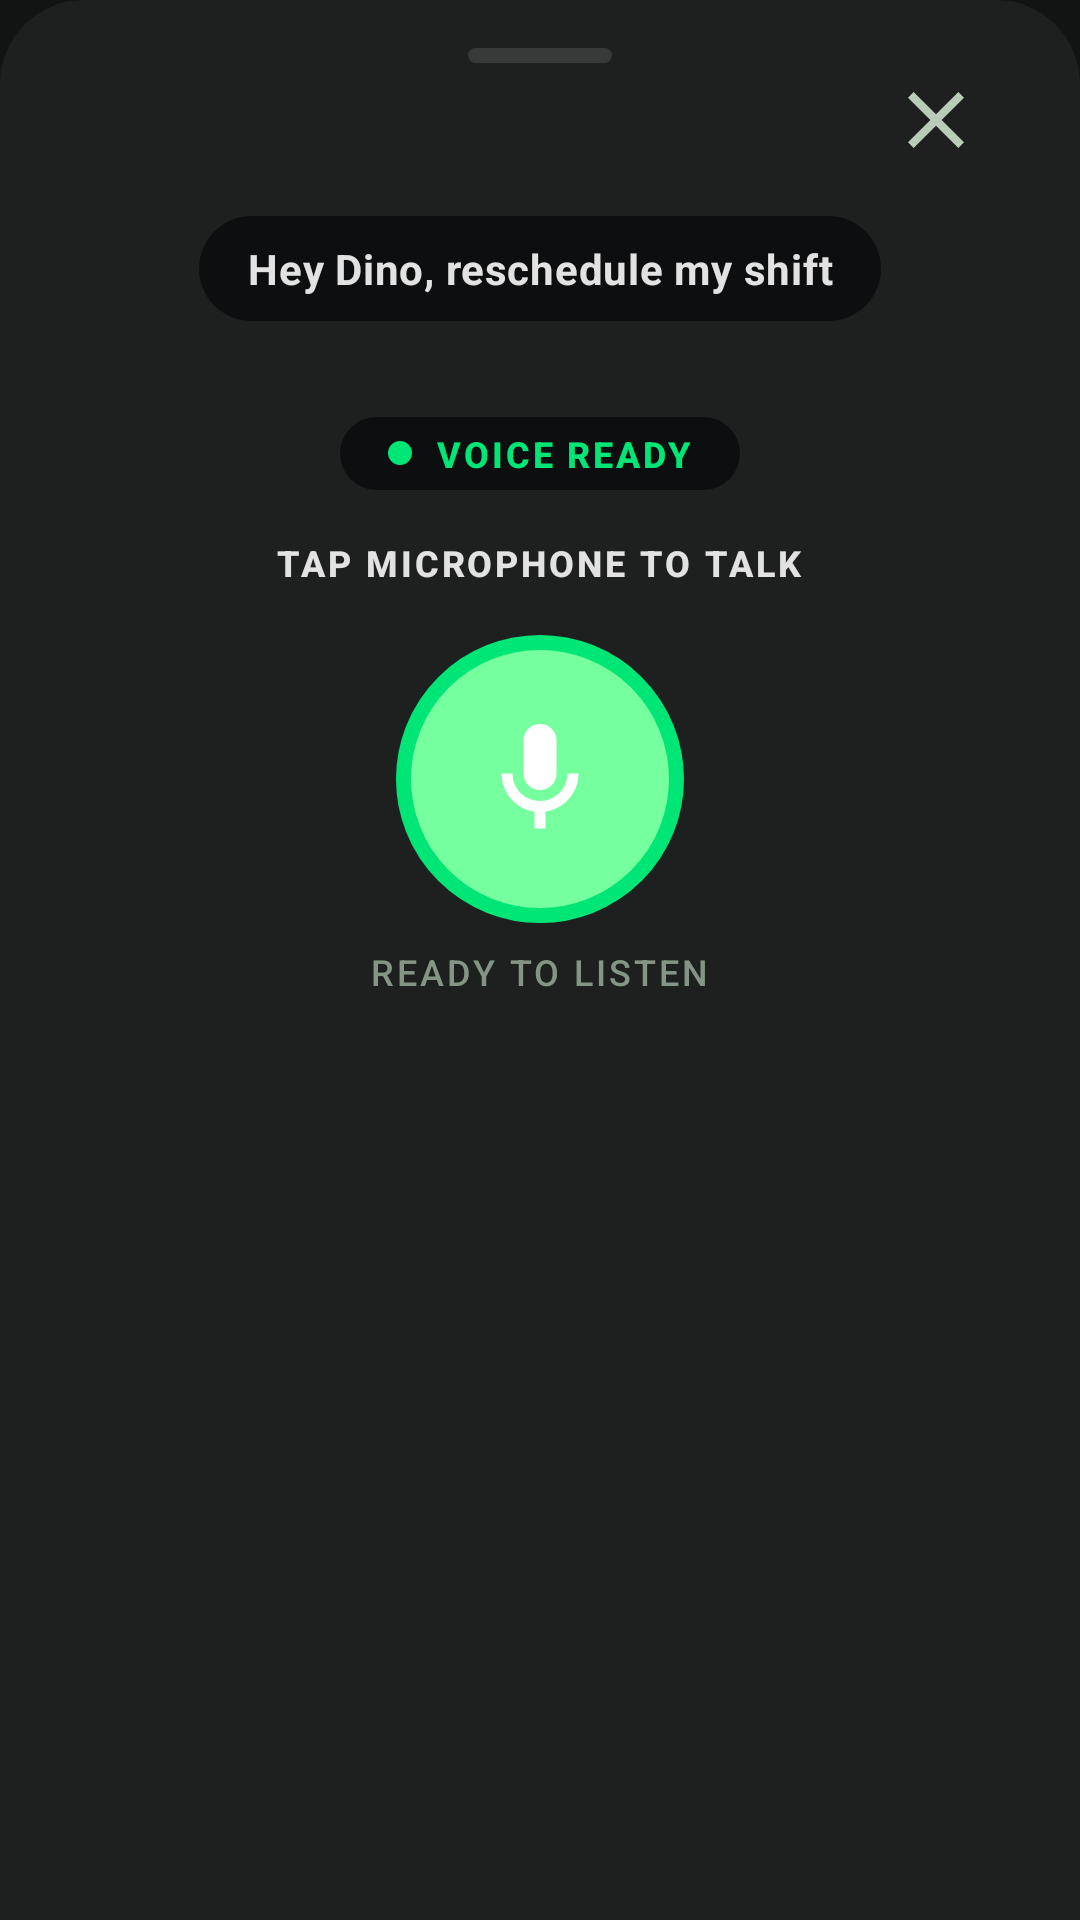

Icons on this 1080 × 1920 Android screen, each with its box as (x1, y1, x2, y2):
Close: (908, 92, 964, 148)
mic: (501, 724, 579, 829)
